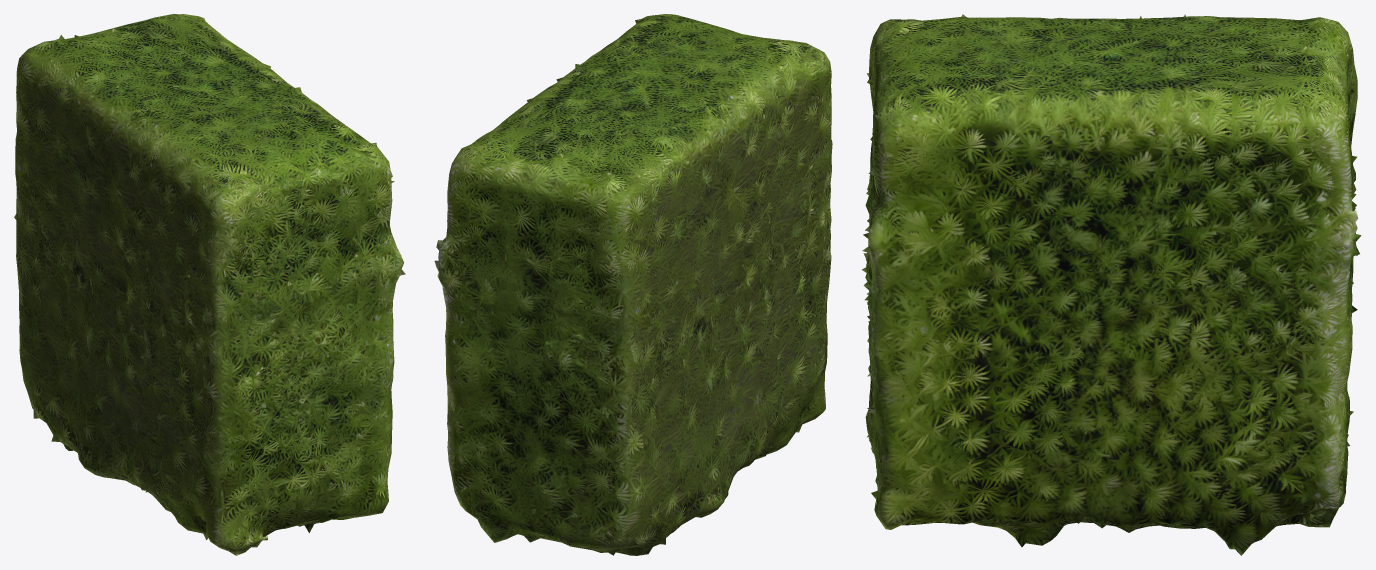
File: shrub2.fbx
The picture shows the model from 3 angles, left to right: view 1: azimuth 30°, elevation 25°; view 2: azimuth 150°, elevation 25°; view 3: azimuth 270°, elevation 25°; orthographic projection. The views are drawn at different scales.
Parts seen in each view (by area): view 1: tripo_node_1f5b7aaf; view 2: tripo_node_1f5b7aaf; view 3: tripo_node_1f5b7aaf.
Boxes of the visible parts, x1,y1,x2,y2 form: tripo_node_1f5b7aaf: (14,14,405,555); tripo_node_1f5b7aaf: (434,14,832,555); tripo_node_1f5b7aaf: (862,14,1361,555).
Size of the model in its own units: 0.5196 by 0.9971 by 0.9681.
1 material, 1 textured.
